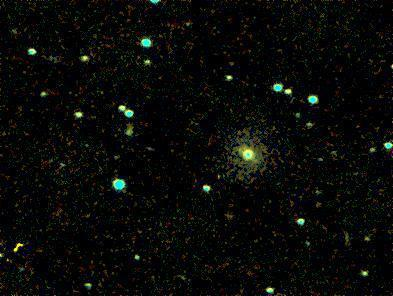star: (204, 162, 234, 192)
